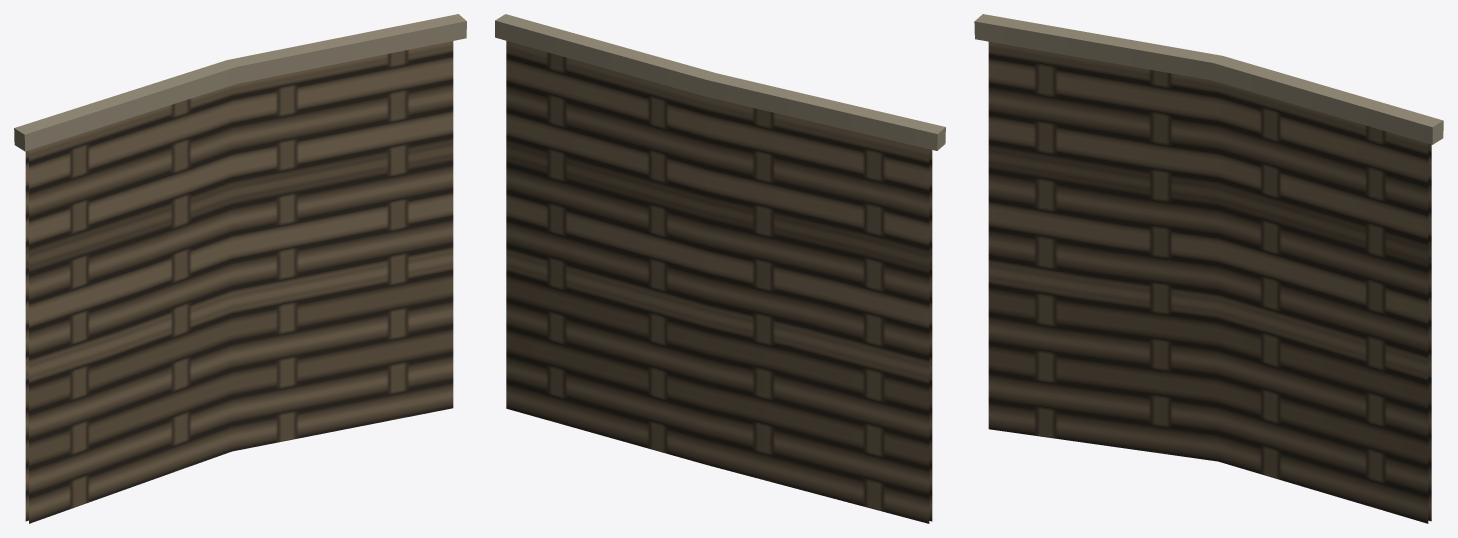
The model's file is HurdlePanel.fbx.
The picture shows the model from 3 angles, left to right: view 1: azimuth 30°, elevation 25°; view 2: azimuth 150°, elevation 25°; view 3: azimuth 330°, elevation 25°; orthographic projection. The views are drawn at different scales.
Parts seen in each view (by area): view 1: HurdlePanel; view 2: HurdlePanel; view 3: HurdlePanel.
Boxes of the visible parts, bbox=[...] form: HurdlePanel: bbox=[14, 14, 466, 523]; HurdlePanel: bbox=[495, 14, 945, 523]; HurdlePanel: bbox=[974, 14, 1443, 523].
Bounding box in the file's own units: 0.9632 × 0.832 × 0.0703.
